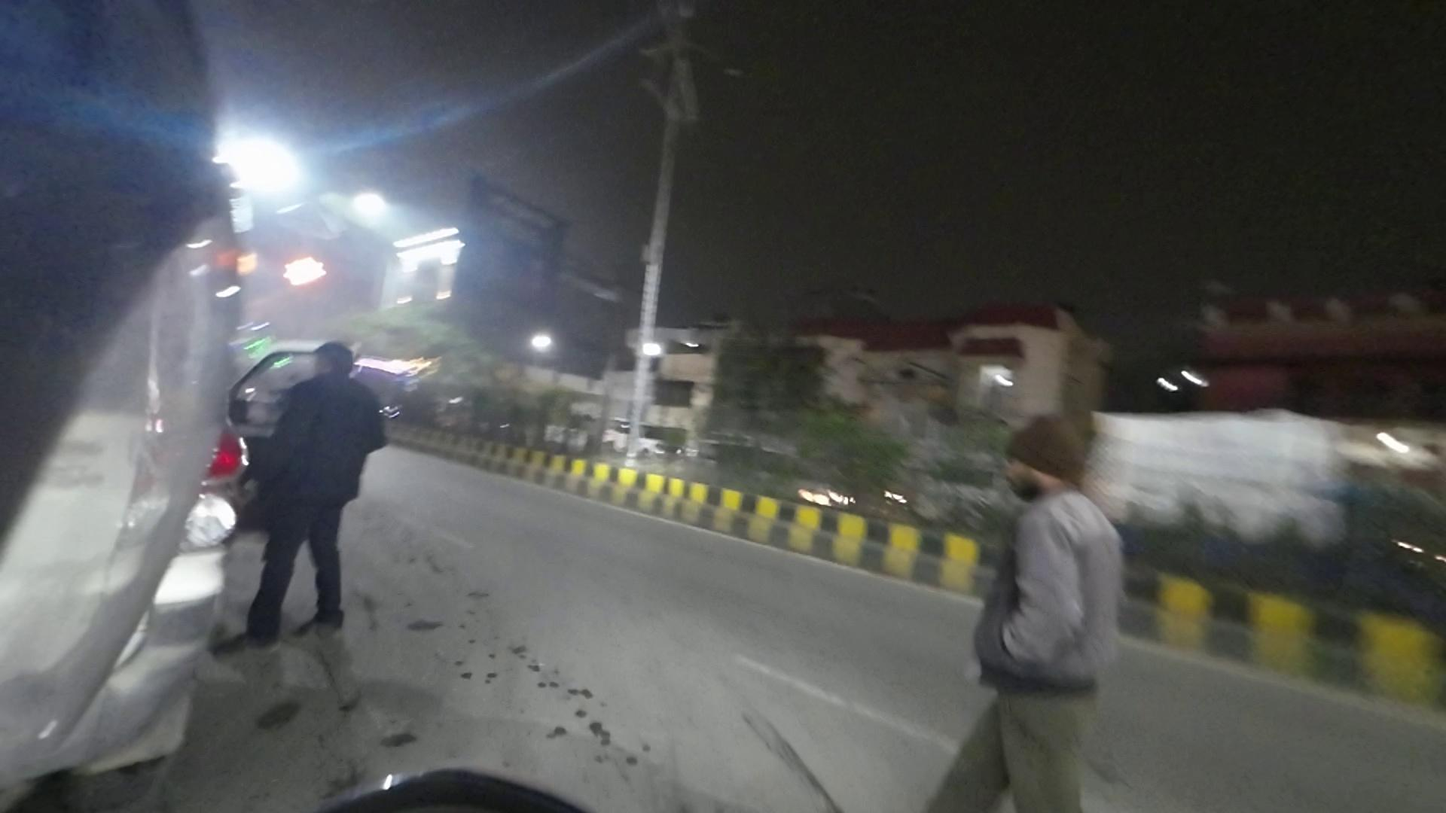streetlight: (704, 52, 746, 84)
